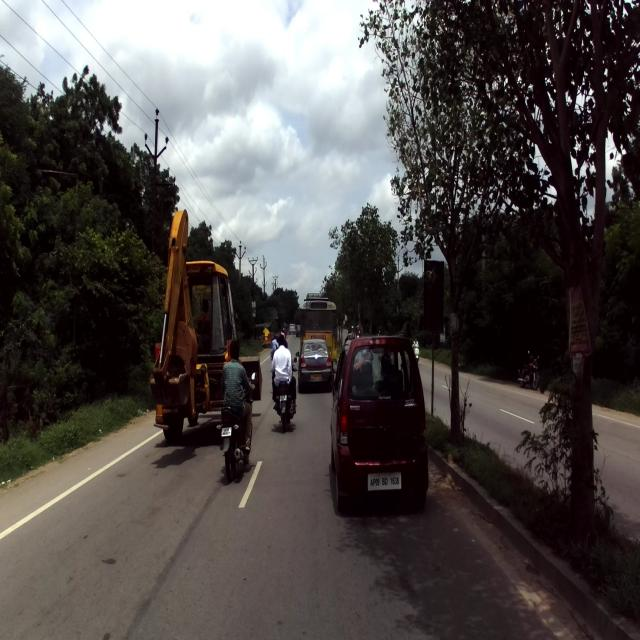car: (327, 330, 429, 513)
motorcycle: (216, 370, 258, 481), (272, 355, 298, 433)
